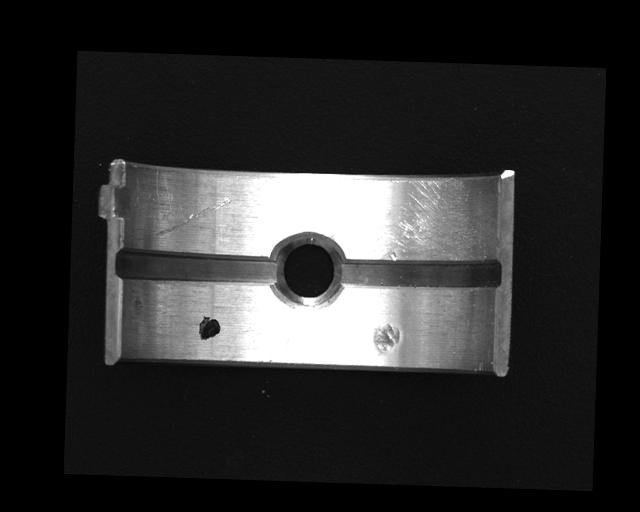blot: (197, 315, 221, 341)
bruise: (371, 322, 401, 358)
gap: (335, 252, 503, 292), (114, 250, 276, 286)
hole: (270, 230, 344, 311)
nick: (154, 193, 232, 239)
scratch: (339, 173, 491, 264)
